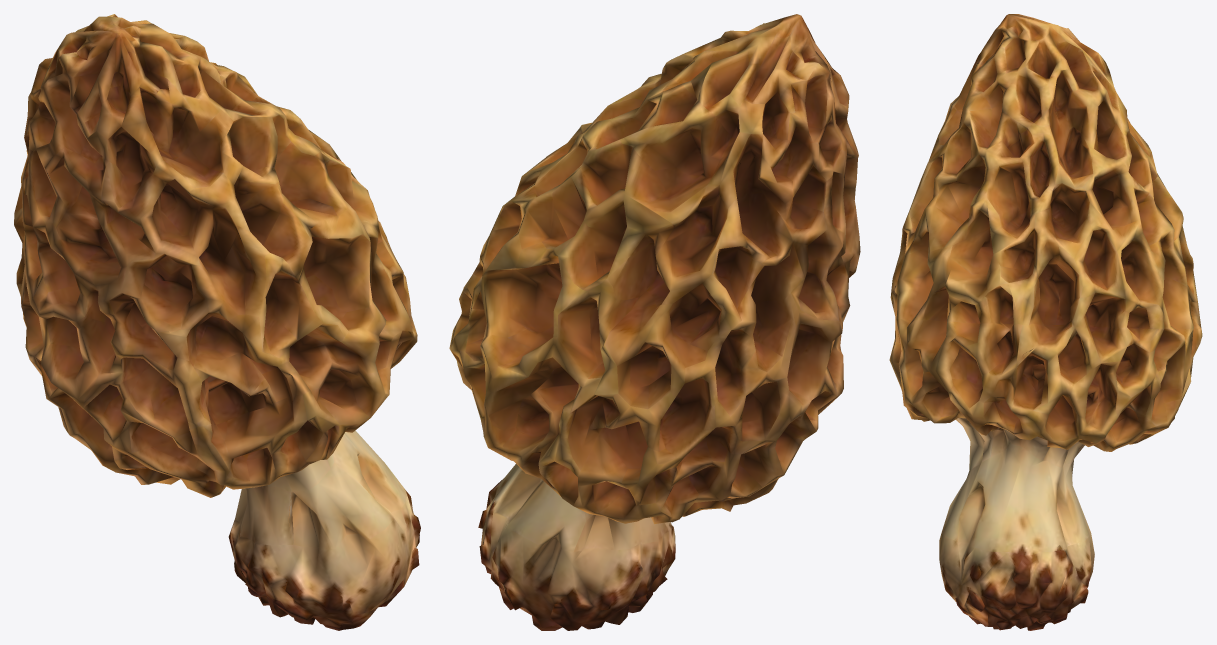
Rendered from morel.glb.
The picture shows the model from 3 angles, left to right: view 1: azimuth 30°, elevation 25°; view 2: azimuth 150°, elevation 25°; view 3: azimuth 270°, elevation 25°; orthographic projection. The views are drawn at different scales.
Visible parts, largest first — view 1: tripo_node_78cbd507-aeb1-4bbb-9a33-04b7506f121f; view 2: tripo_node_78cbd507-aeb1-4bbb-9a33-04b7506f121f; view 3: tripo_node_78cbd507-aeb1-4bbb-9a33-04b7506f121f.
Boxes of the visible parts, x1,y1,x2,y2 form: tripo_node_78cbd507-aeb1-4bbb-9a33-04b7506f121f: (14, 14, 420, 630); tripo_node_78cbd507-aeb1-4bbb-9a33-04b7506f121f: (449, 14, 860, 630); tripo_node_78cbd507-aeb1-4bbb-9a33-04b7506f121f: (889, 14, 1202, 630).
Bounding box in the file's own units: 0.5715 × 0.9775 × 0.5263.
1 material, 1 textured.
